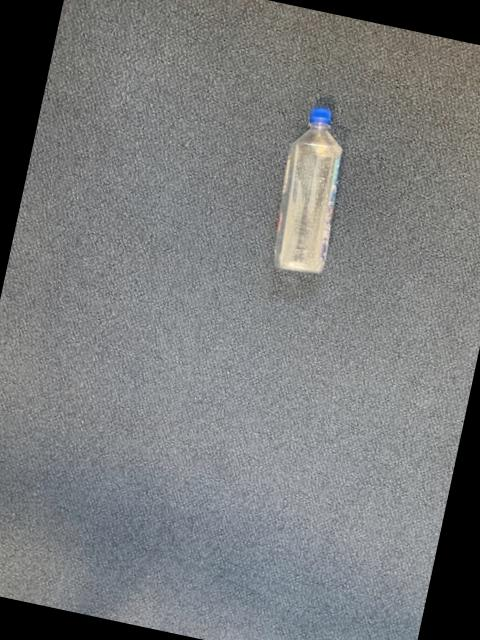plastic: (276, 105, 343, 270)
